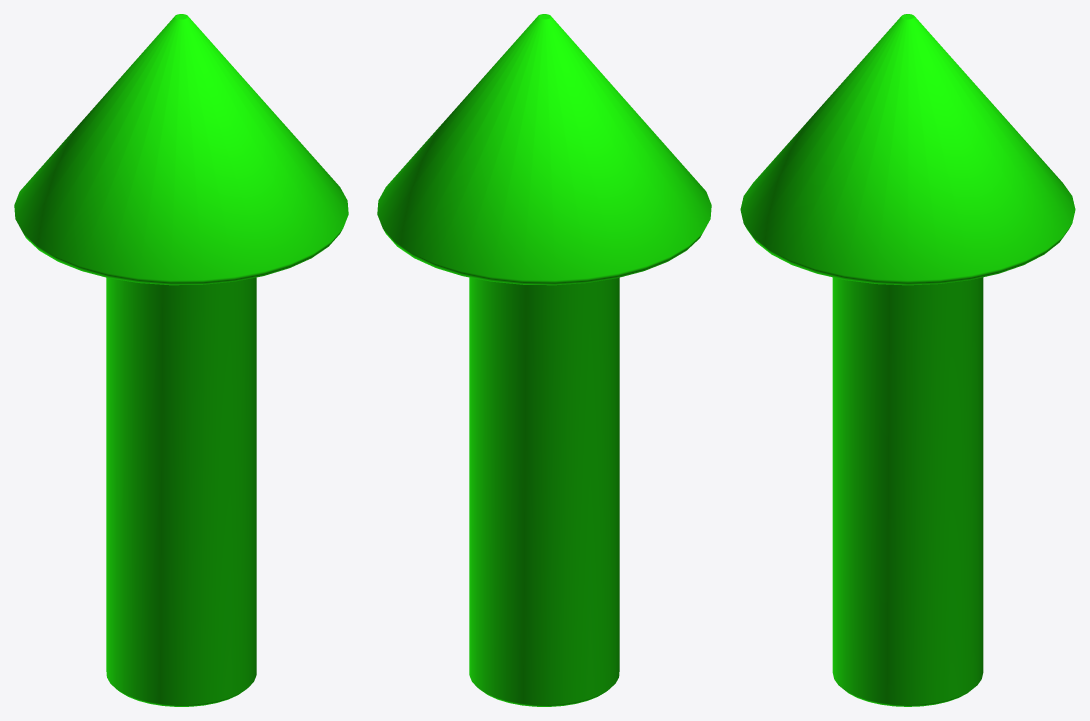
File: Up-Vector.fbx
The picture shows the model from 3 angles, left to right: view 1: azimuth 30°, elevation 25°; view 2: azimuth 150°, elevation 25°; view 3: azimuth 270°, elevation 25°; orthographic projection.
Visible parts, largest first — view 1: Cone; view 2: Cone; view 3: Cone.
Part boxes in pixels (x1,y1,x2,y2): Cone: [14, 14, 348, 706]; Cone: [377, 14, 711, 706]; Cone: [740, 14, 1075, 706].
Size of the model in its own units: 147 by 319 by 147.
